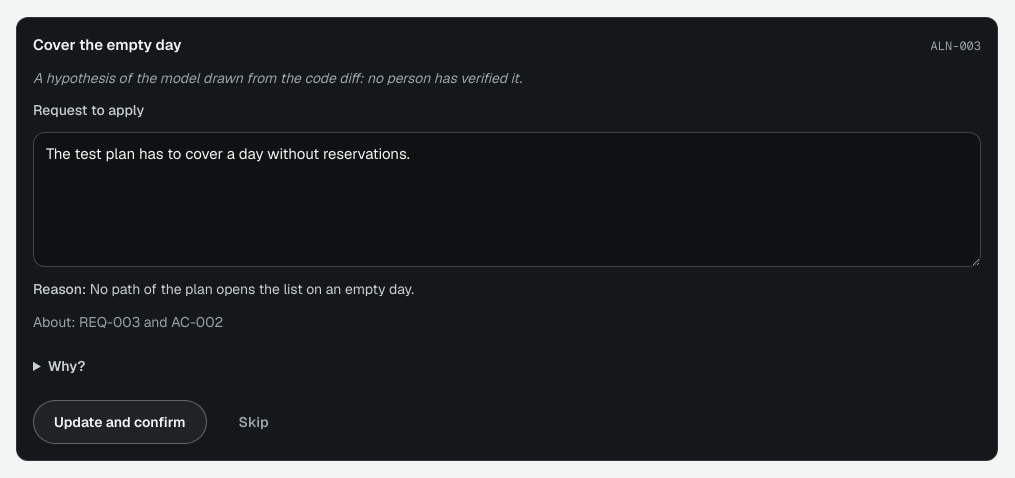
Scenario: AlignmentProposalsNotice › applies a proposal of the tests without differences in en
The image size is (1015, 478).
Click the button with test id "alignment-proposal-apply".
click(120, 422)  # box [33, 400, 207, 444]
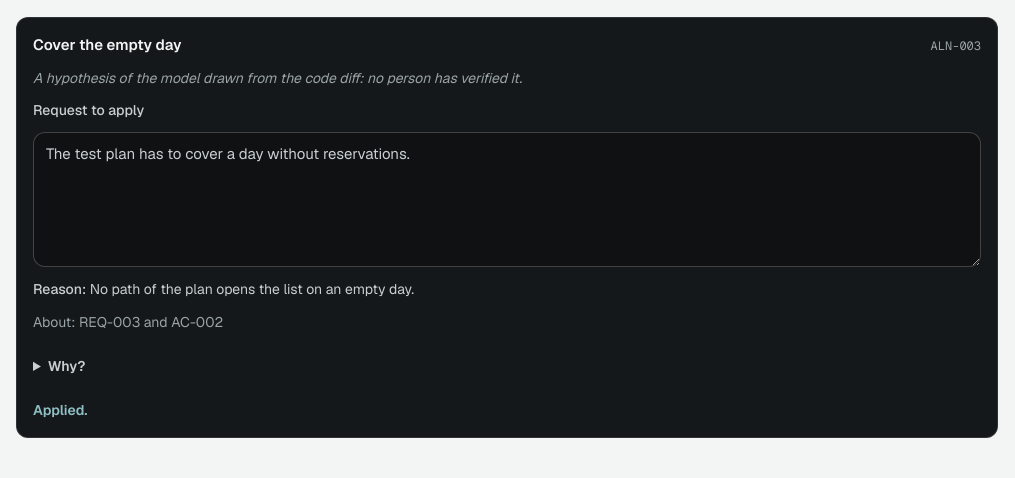
Expected: the message with test id "alignment-proposal-state" reads "Applied.", [33, 400, 88, 418]
